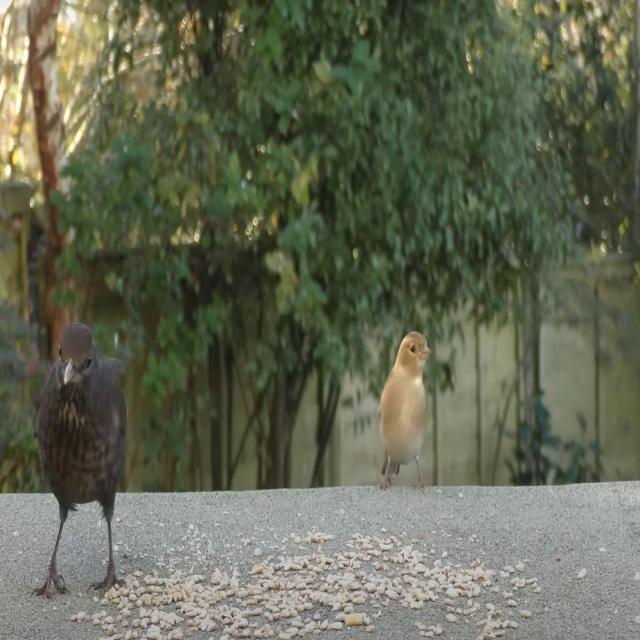beak: (58, 350, 77, 391), (420, 339, 433, 362)
bird: (25, 320, 129, 597), (377, 325, 437, 494)
